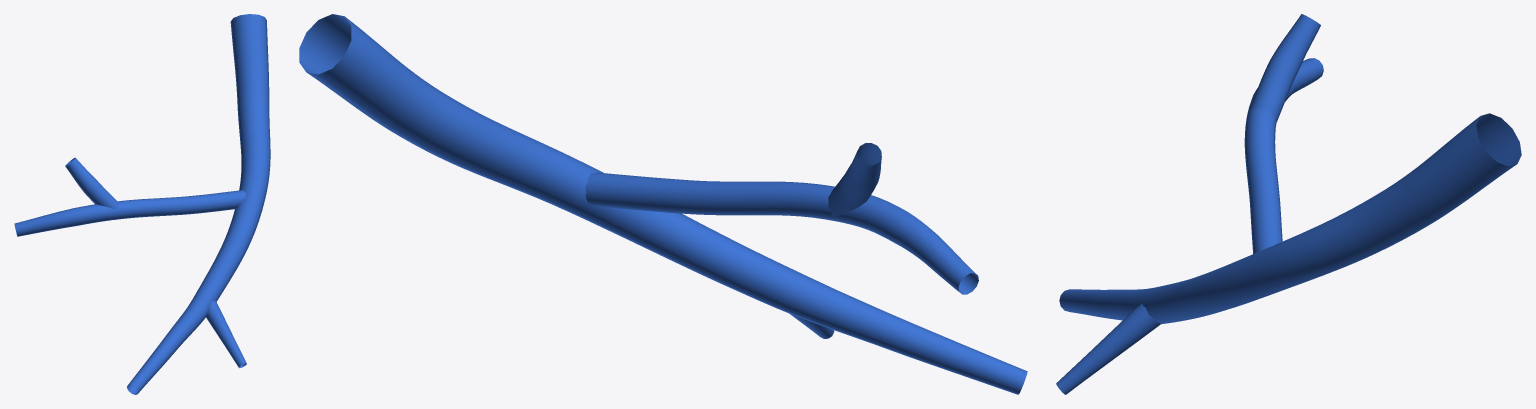
File: circulatorio-lateral-segmental-artery-of-right-lung.glb
3 views of the same model, side by side, from view 1: azimuth 30°, elevation 25°; view 2: azimuth 150°, elevation 25°; view 3: azimuth 270°, elevation 25° (orthographic). The views are drawn at different scales.
Visible parts, largest first — view 1: Lateral segmental artery of right lung; view 2: Lateral segmental artery of right lung; view 3: Lateral segmental artery of right lung.
Boxes of the visible parts, x1=… form: Lateral segmental artery of right lung: x1=14, y1=14, x2=270, y2=394; Lateral segmental artery of right lung: x1=299, y1=14, x2=1027, y2=394; Lateral segmental artery of right lung: x1=1056, y1=14, x2=1521, y2=394.
Size of the model in its own units: 0.0776 by 0.0566 by 0.0613.
